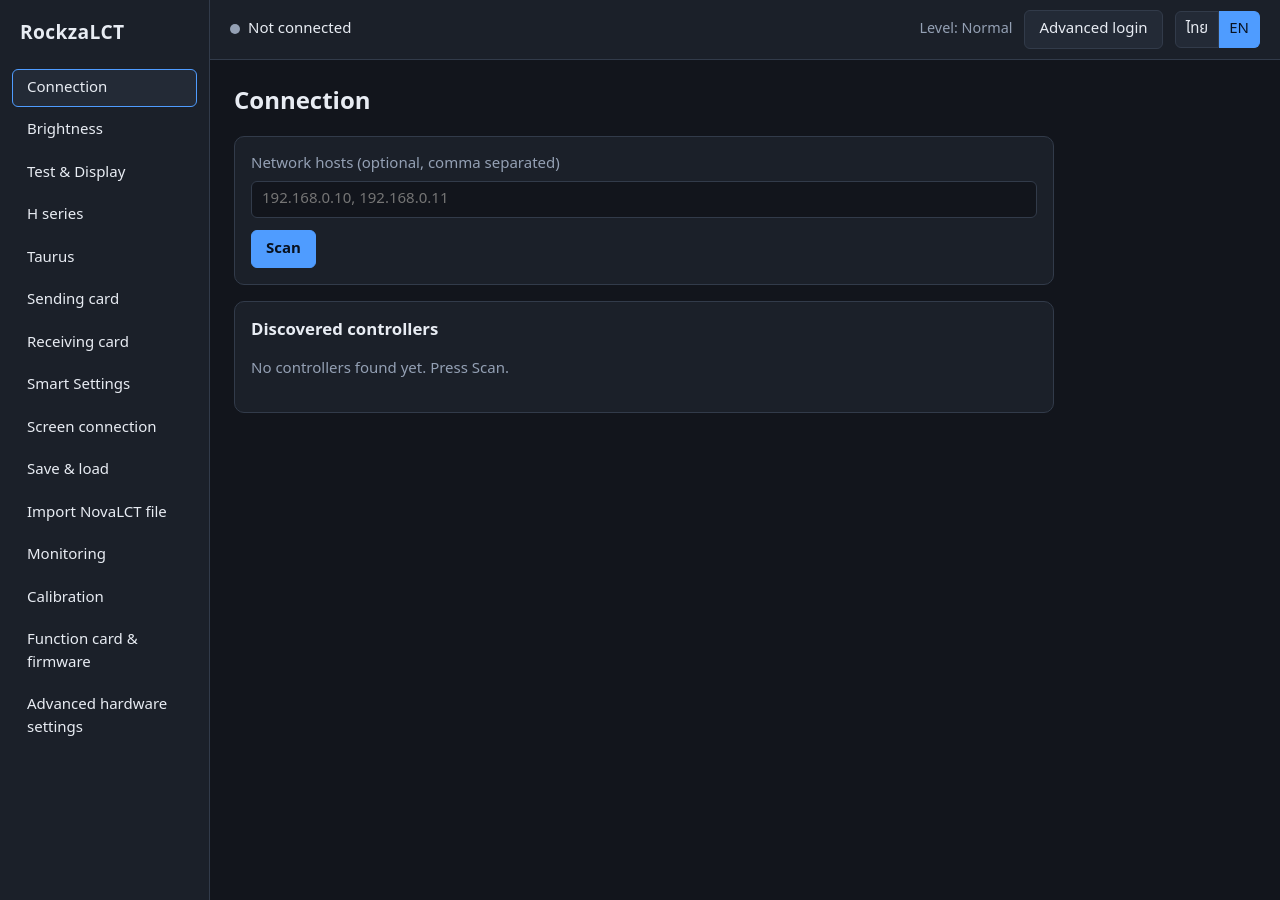
Test case: SenderPage › is fully disabled while not connected and reads nothing
Click the button "Sending card" at (104, 301), box [12,281,197,320]
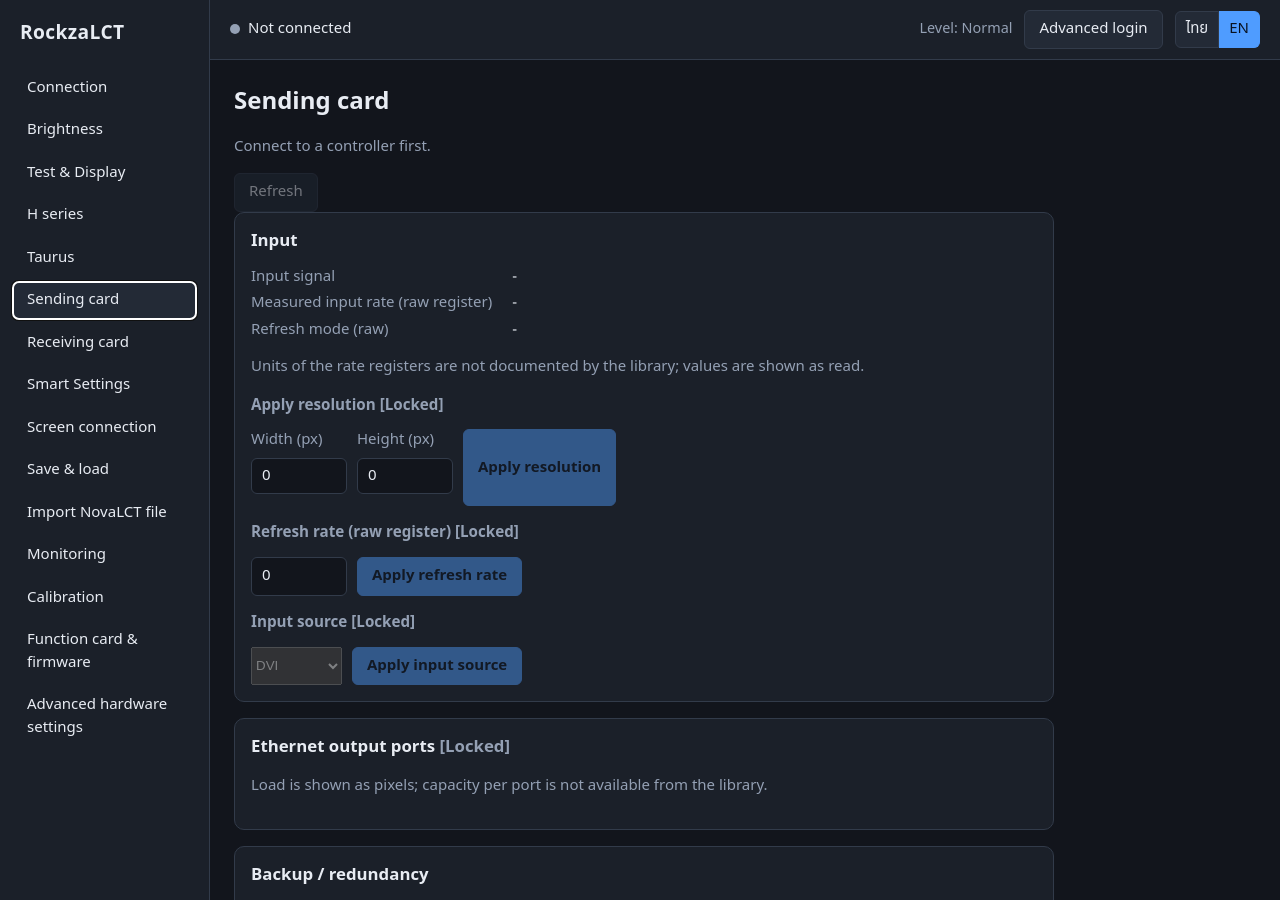
Now the text "Connect to a controller first." is shown, box [234,134,431,158]
Now the button "Refresh" is disabled, box [234,173,318,212]
Now the button "Apply resolution" is disabled, box [463,430,616,506]
